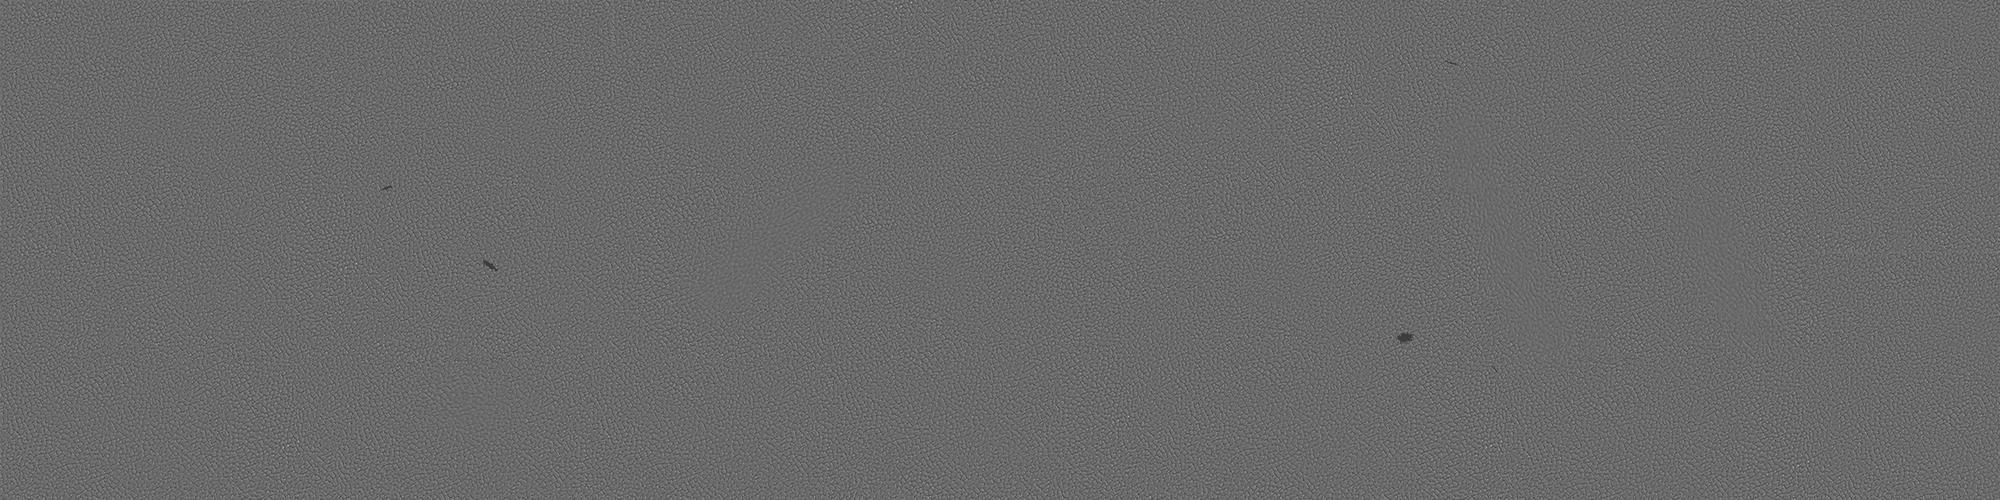Decomposed: (1390, 323, 1423, 352), (478, 254, 506, 276), (378, 181, 395, 196), (1440, 57, 1458, 69)
